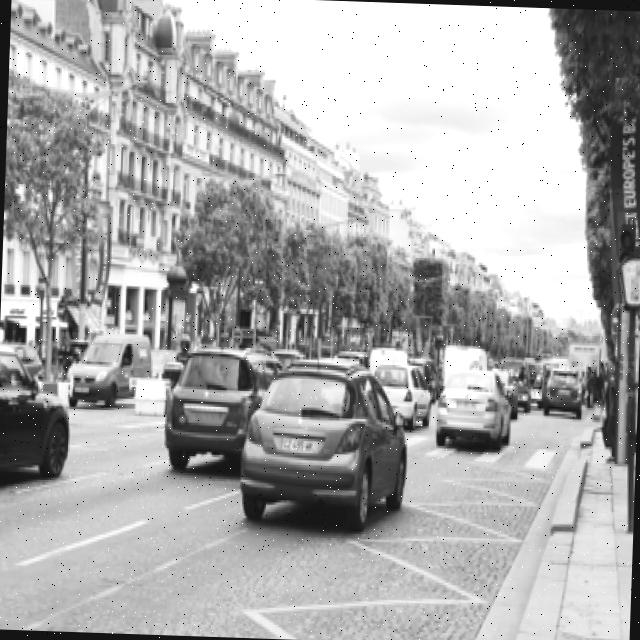Autre: (277, 431, 329, 456)
